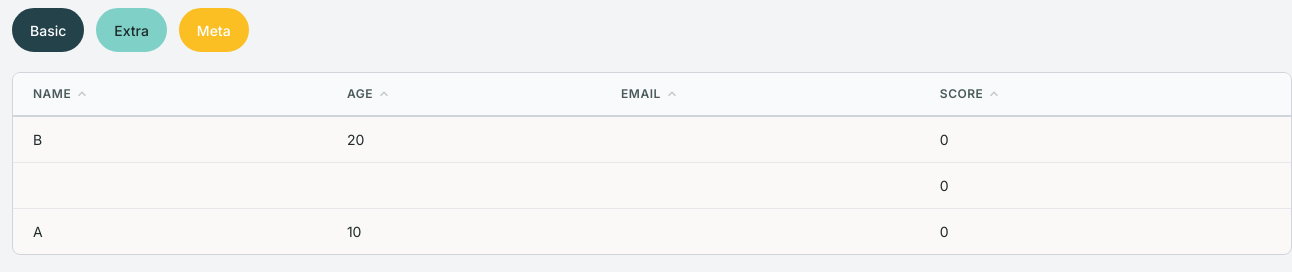
Test case: ConfigurableTable › sorting › handles null values in sort (nulls first ascending)
Click the column heading with class "ct-th-sortable" showing "Name".
click(52, 94)  # box [13, 73, 327, 116]
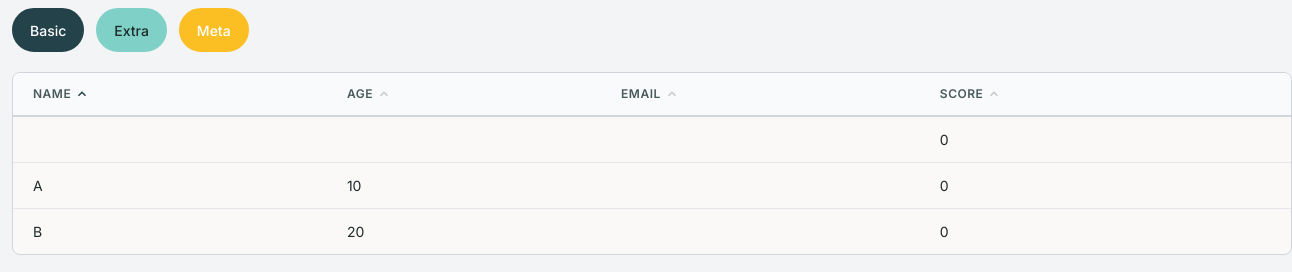
Result: the cell "A" is shown at [13, 162, 327, 208]
